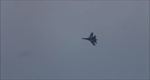maybay_muctieu: (80, 32, 99, 47)
